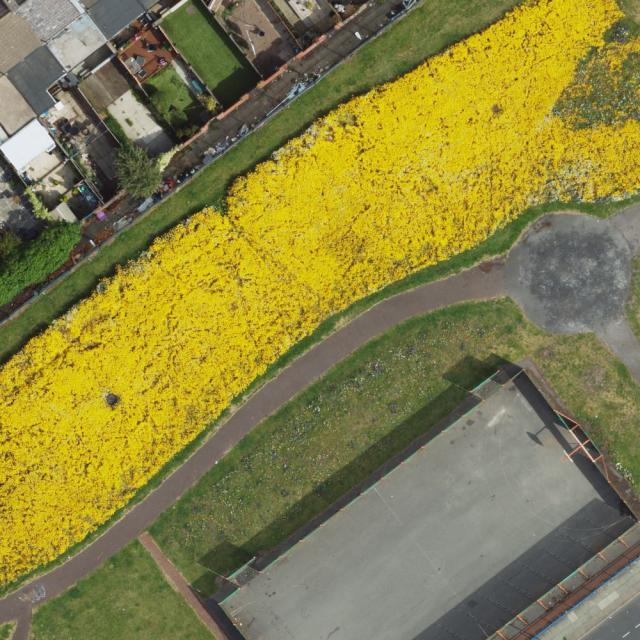roof: (0, 0, 160, 135)
